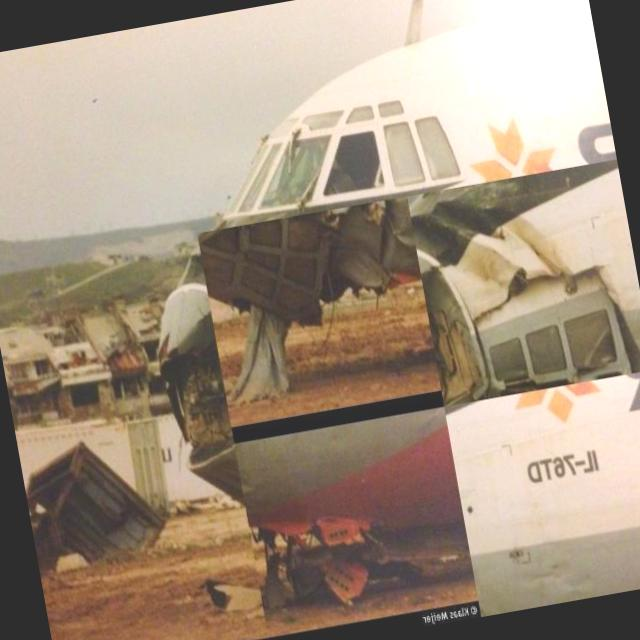dent: (240, 479, 254, 494)
